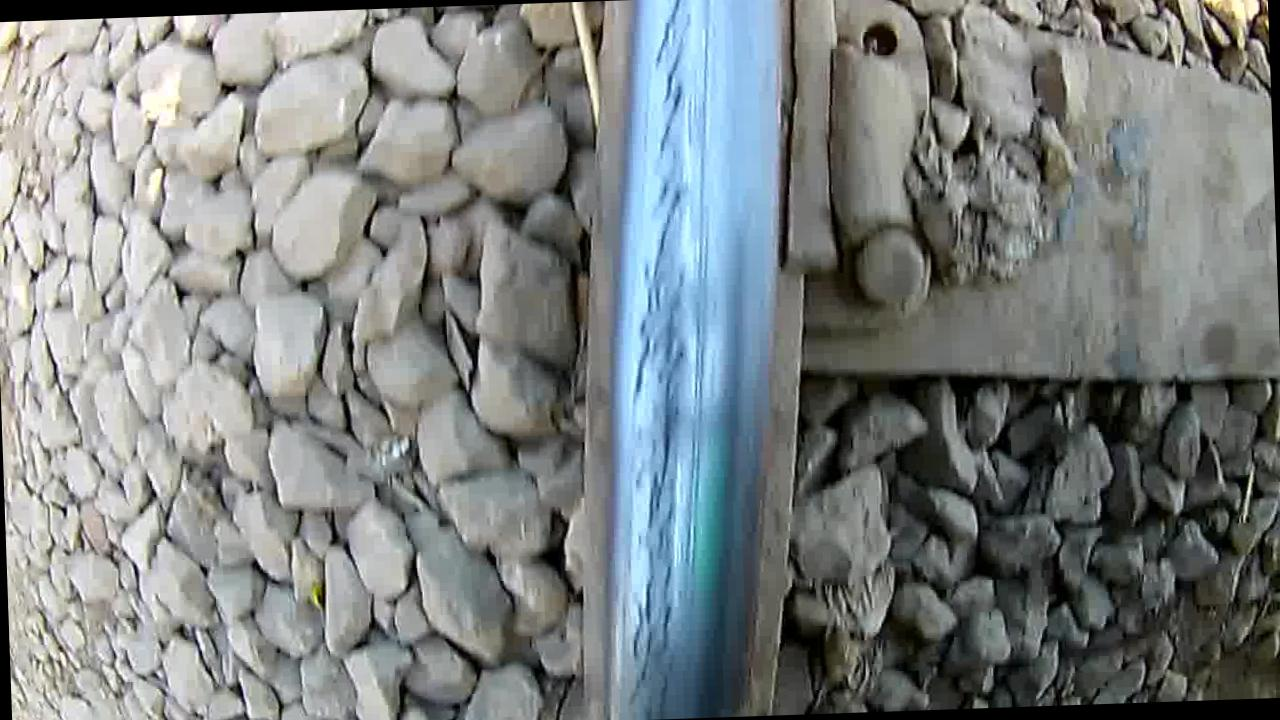normal_track: (595, 0, 730, 718)
